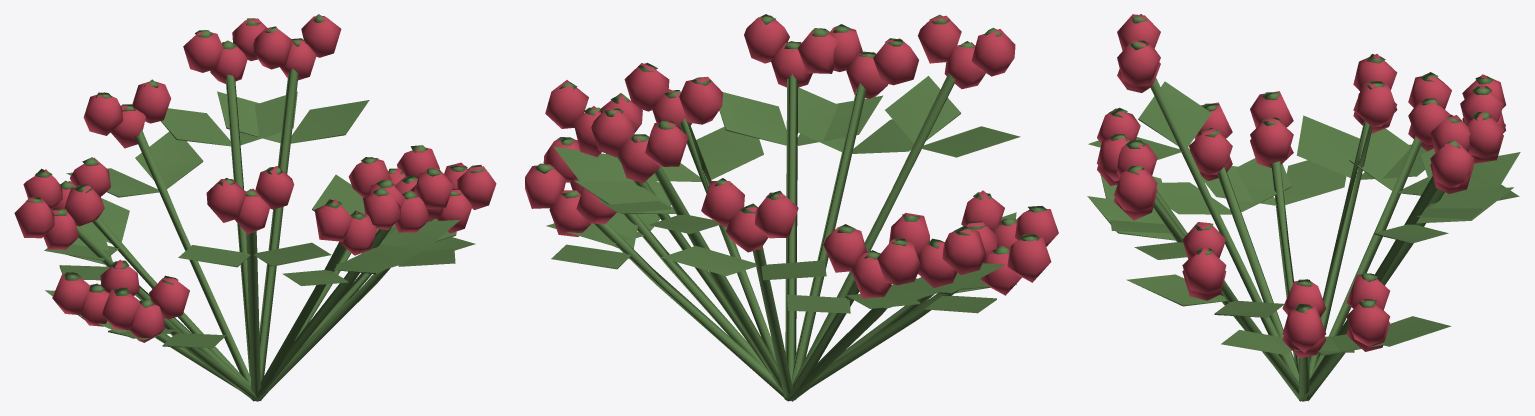
Rendered from berries.glb.
3 views of the same model, side by side, from view 1: azimuth 30°, elevation 25°; view 2: azimuth 150°, elevation 25°; view 3: azimuth 270°, elevation 25° (orthographic). The views are drawn at different scales.
Parts seen in each view (by area): view 1: berry branch, berry; view 2: berry branch, berry; view 3: berry branch, berry.
Part boxes in pixels (left/top/right/bottom): berry branch: left=26, top=14, right=484, bottom=401; berry: left=14, top=16, right=496, bottom=342; berry branch: left=534, top=14, right=1047, bottom=401; berry: left=525, top=15, right=1058, bottom=298; berry branch: left=1087, top=14, right=1520, bottom=401; berry: left=1097, top=14, right=1505, bottom=358.
Bounding box in the file's own units: 1.18 × 0.7804 × 0.9312.
